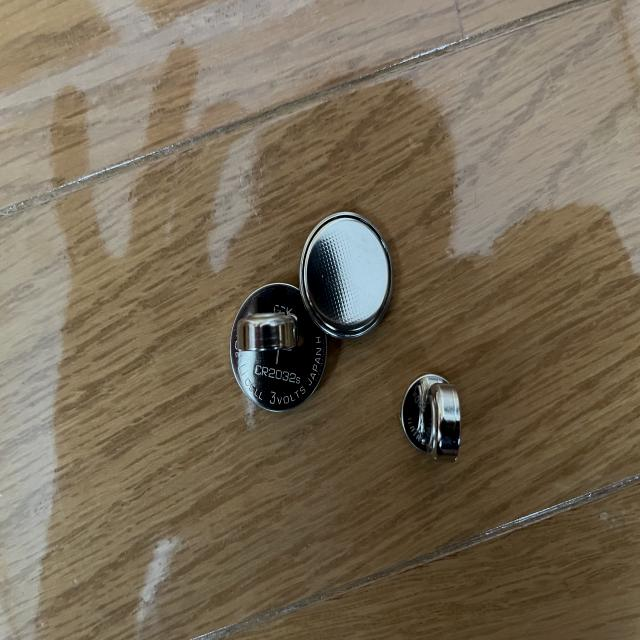COIN: (227, 280, 328, 414), (296, 208, 395, 342), (399, 372, 466, 455), (426, 382, 464, 466), (234, 309, 296, 352)
